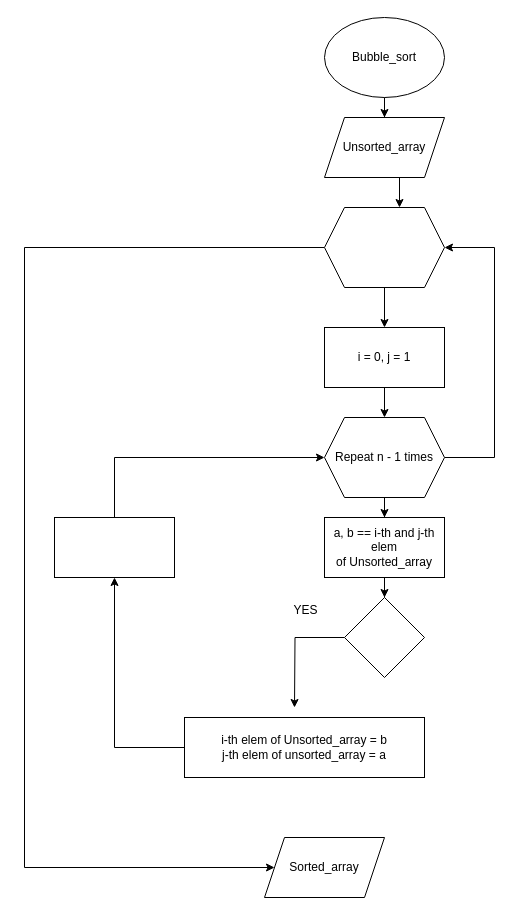
The diagram is 520 pixels wide and 915 high, and some of its shapes have lost their labels. The shapes that lost their labels are listed below. From the top down, each one's centre as x and y in pixels, then its label:
At (x=384, y=247): "Repeat n-1 times".
At (x=114, y=547): "i = i+1 j = j+1".
At (x=384, y=637): "a < b".
